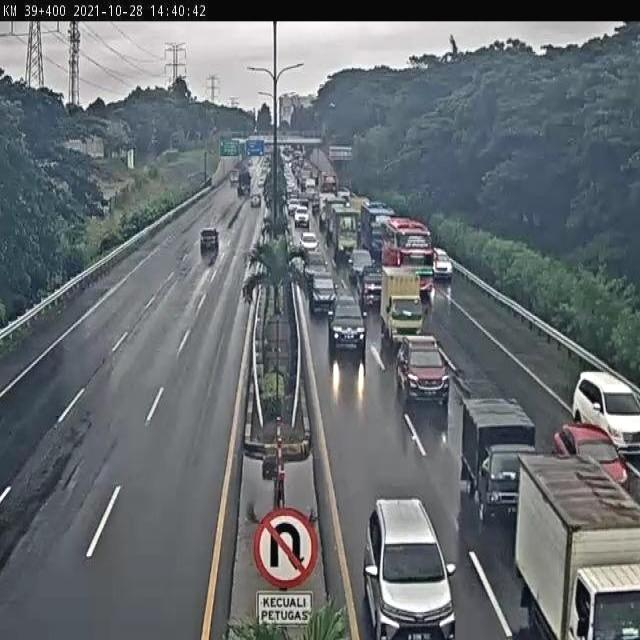Bus: (383, 217, 436, 312), (361, 200, 395, 259)
Car: (555, 422, 630, 492), (396, 332, 452, 407), (327, 296, 367, 358), (309, 275, 337, 315), (347, 248, 376, 282), (361, 268, 386, 306), (305, 250, 331, 284), (430, 247, 454, 277), (198, 225, 222, 250), (293, 205, 311, 232), (299, 232, 320, 254), (251, 190, 263, 208)
Truck: (512, 447, 639, 640), (461, 396, 537, 522), (383, 266, 424, 345), (330, 208, 360, 262), (236, 169, 254, 197)
Van: (363, 494, 460, 640), (571, 367, 640, 459)
